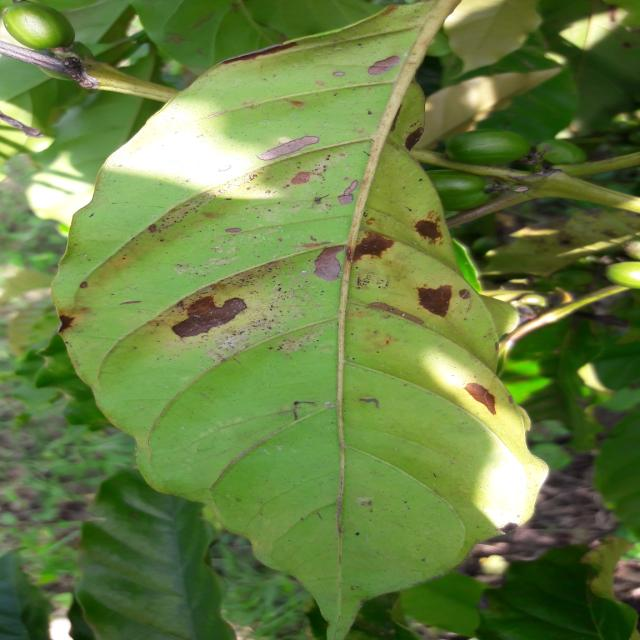Plaga-AranaRoja: (53, 0, 551, 640)
